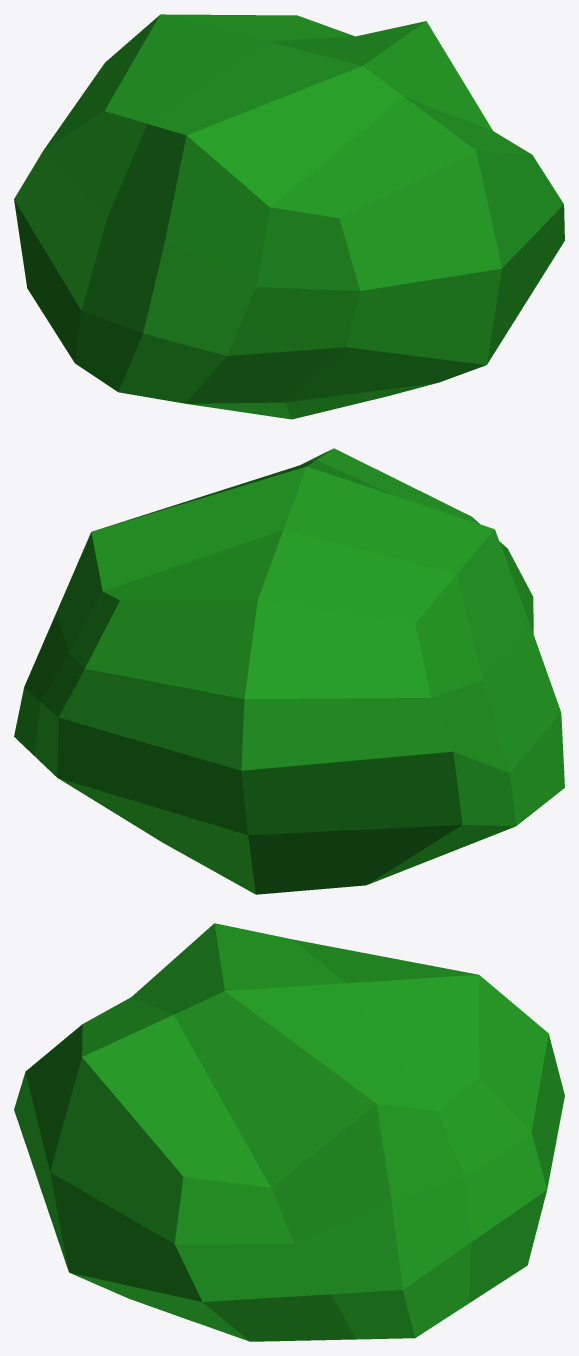
Rendered from bush.glb.
3 views of the same model, one above another, from view 1: azimuth 30°, elevation 25°; view 2: azimuth 150°, elevation 25°; view 3: azimuth 270°, elevation 25° (orthographic).
Visible parts, largest first — view 1: ruler_flower4_lambert3_0; view 2: ruler_flower4_lambert3_0; view 3: ruler_flower4_lambert3_0.
Boxes of the visible parts, left/top/right/bottom form: ruler_flower4_lambert3_0: left=14, top=14, right=564, bottom=419; ruler_flower4_lambert3_0: left=14, top=448, right=564, bottom=894; ruler_flower4_lambert3_0: left=14, top=923, right=564, bottom=1341.
Size of the model in its own units: 275 by 189 by 290.
